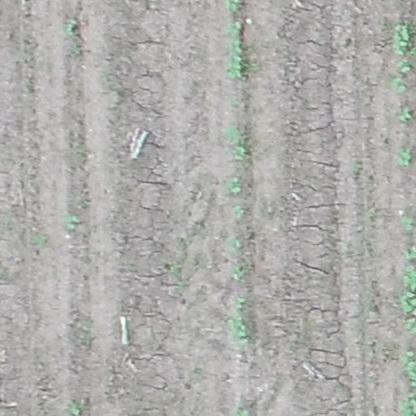vc: (226, 22, 242, 78), (402, 266, 416, 329), (229, 317, 251, 343), (392, 23, 411, 53), (391, 77, 408, 95), (397, 147, 411, 168), (228, 177, 242, 195), (232, 144, 247, 160), (399, 103, 412, 121), (402, 217, 414, 234), (399, 60, 413, 74), (232, 263, 244, 279), (233, 295, 245, 310), (228, 239, 242, 251), (227, 1, 241, 12), (66, 19, 78, 31), (67, 217, 79, 229), (234, 205, 244, 218), (405, 249, 415, 260)
